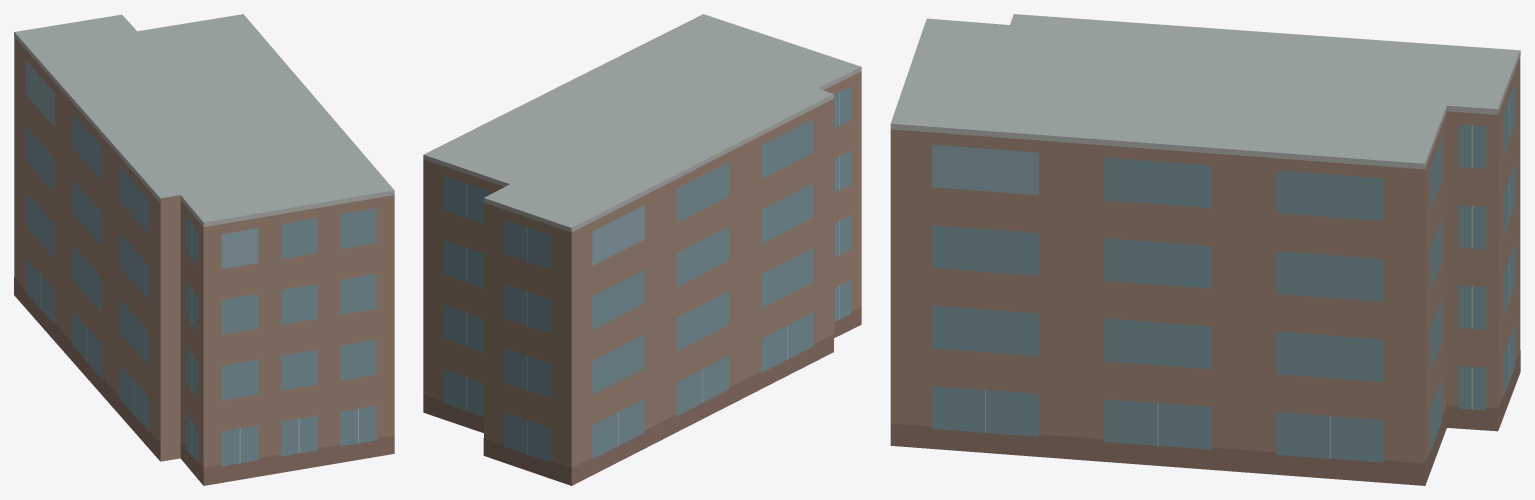
File: survey-upis-33004937.glb
3 views of the same model, side by side, from view 1: azimuth 30°, elevation 25°; view 2: azimuth 150°, elevation 25°; view 3: azimuth 270°, elevation 25° (orthographic). The views are drawn at different scales.
Parts seen in each view (by area): view 1: survey-upis-33004937.tmp; view 2: survey-upis-33004937.tmp; view 3: survey-upis-33004937.tmp.
Boxes of the visible parts, <box> form: survey-upis-33004937.tmp: <box>14,14,394,485</box>; survey-upis-33004937.tmp: <box>423,14,861,485</box>; survey-upis-33004937.tmp: <box>890,14,1520,485</box>.
Size of the model in its own units: 13.93 by 13.95 by 24.74.
